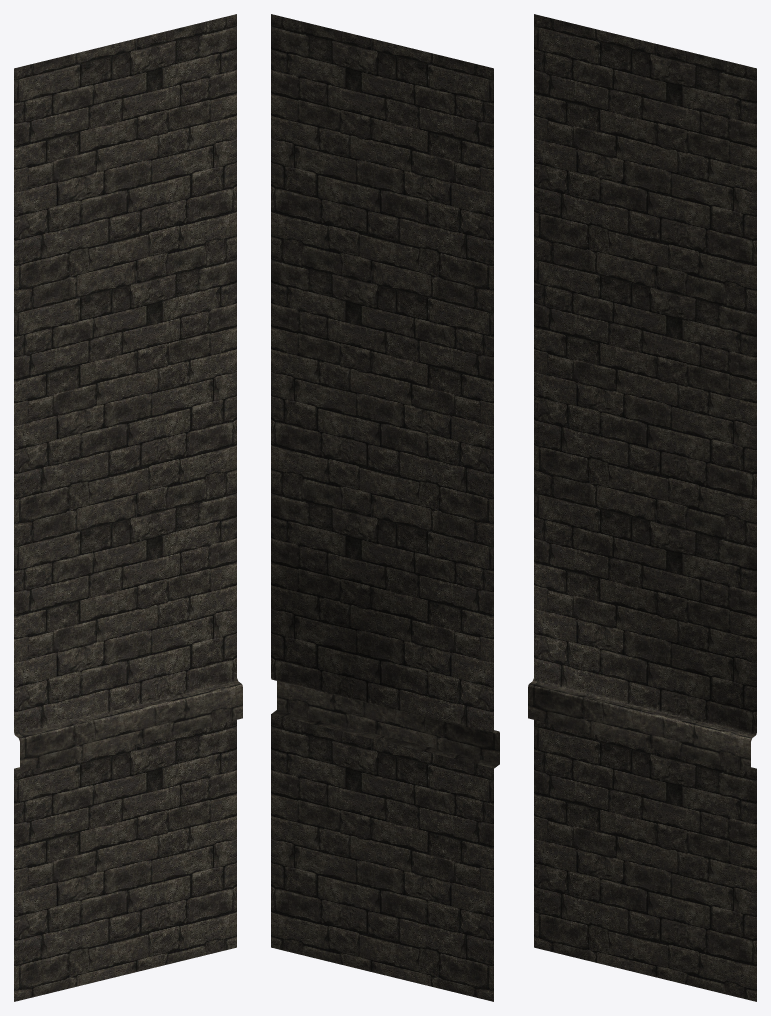
Rendered from wallBlock.fbx.
The picture shows the model from 3 angles, left to right: view 1: azimuth 30°, elevation 25°; view 2: azimuth 150°, elevation 25°; view 3: azimuth 330°, elevation 25°; orthographic projection.
Visible parts, largest first — view 1: polySurface95; view 2: polySurface95; view 3: polySurface95.
Part boxes in pixels (x1,y1,x2,y2): polySurface95: (14,14,242,1001); polySurface95: (271,14,499,1001); polySurface95: (528,14,756,1001).
Bounding box in the file's own units: 2 × 8 × 0.0894.
Materials: 1 (1 with a texture image).
